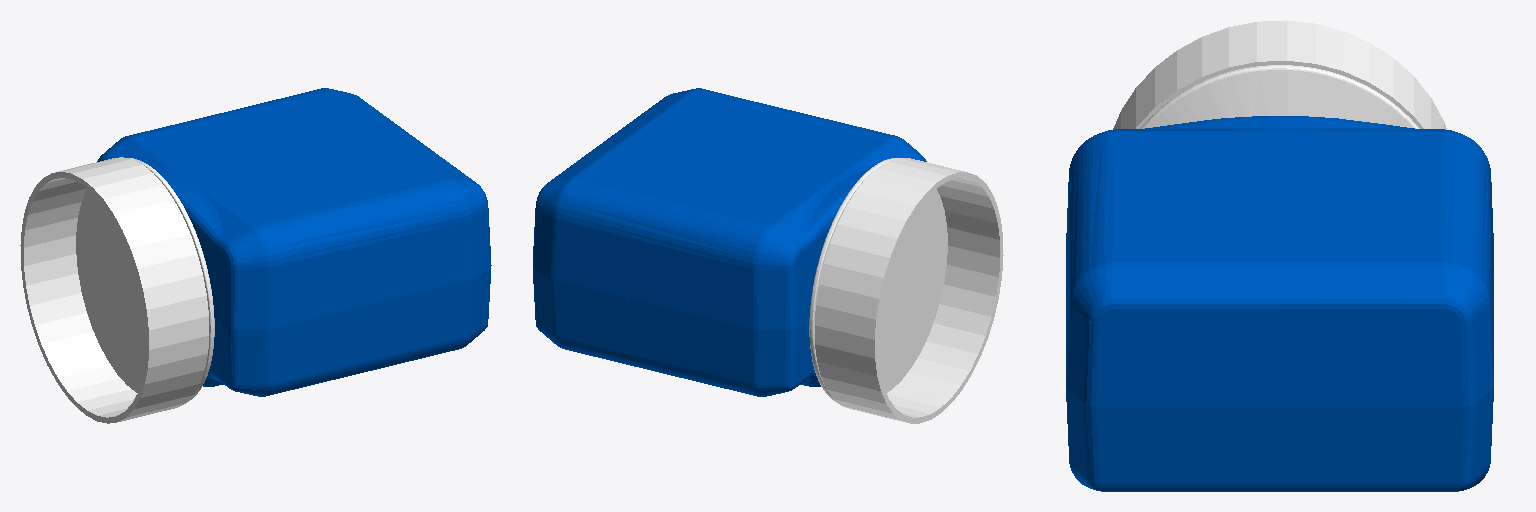
The robot description file, URDF, robot "fetch_gripper":
<robot name="fetch_gripper">
  <link name="wrist_roll_link">
    <inertial>
      <origin rpy="0 0 0" xyz="0.0095 0.0004 -0.0002" />
      <mass value="0.1354" />
      <inertia ixx="0.0001" ixy="0.0" ixz="0.0" iyy="0.0001" iyz="0.0" izz="0.0001" />
    </inertial>
    <visual>
      <origin rpy="0 0 0" xyz="0 0 0" />
      <geometry>
        <mesh filename="meshes/wrist_roll_link.obj" />
      </geometry>
      <material name="">
        <color rgba="1 1 1 1" />
      </material>
    </visual>
    <collision>
      <origin rpy="0 0 0" xyz="0 0 0" />
      <geometry>
        <mesh filename="meshes/wrist_roll_link_collision.STL" />
      </geometry>
    </collision>
  </link>
  <link name="gripper_link">
    <inertial>
      <origin rpy="0 0 0" xyz="-0.0900 -0.0001 -0.0017" />
      <mass value="1.5175" />
      <inertia ixx="0.0013" ixy="-0.0" ixz="0.0" iyy="0.0019" iyz="-0.0" izz="0.0024" />
    </inertial>
    <visual>
      <origin rpy="0 0 0" xyz="0 0 0" />
      <geometry>
        <mesh filename="meshes/gripper_link.obj" />
      </geometry>
      <material name="">
        <color rgba="0 0.4 0.8 1" />
      </material>
    </visual>
    <collision>
      <origin rpy="0 0 0" xyz="0 0 0" />
      <geometry>
        <mesh filename="meshes/gripper_link.obj" />
      </geometry>
    </collision>
  </link>
  <joint name="gripper_axis" type="fixed">
    <origin rpy="0 0 0" xyz="0.16645 0 0" />
    <parent link="wrist_roll_link" />
    <child link="gripper_link" />
    <axis xyz="0 1 0" />
  </joint>
  <link name="r_gripper_finger_link">
    <inertial>
      <origin rpy="0 0 0" xyz="-0.01 0 0" />
      <mass value="0.0798" />
      <inertia ixx="0.002" ixy="0" ixz="0" iyy="0" iyz="0" izz="0" />
    </inertial>
    <visual>
      <origin rpy="0 0 0" xyz="0 0.101425 0" />
      <geometry>
        <mesh filename="meshes/r_gripper_finger_link.obj" />
      </geometry>
      <material name="">
        <color rgba="0.356 0.361 0.376 1" />
      </material>
    </visual>
    <collision>
      <origin rpy="0 0 0" xyz="0 0.101425 0" />
      <geometry>
        <mesh filename="meshes/r_gripper_finger_link.obj" />
      </geometry>
    </collision>
  </link>
  <joint name="r_gripper_finger_joint" type="prismatic">
    <origin rpy="0 0 0" xyz="0 0.015425 0" />
    <parent link="gripper_link" />
    <child link="r_gripper_finger_link" />
    <axis xyz="0 1 0" />
  <limit effort="60" lower="0.0" upper="0.05" velocity="0.05" /><dynamics damping="100.0" /></joint>
  <link name="l_gripper_finger_link">
    <inertial>
      <origin rpy="0 0 0" xyz="-0.01 0 0" />
      <mass value="0.0798" />
      <inertia ixx="0.002" ixy="0" ixz="0" iyy="0" iyz="0" izz="0" />
    </inertial>
    <visual>
      <origin rpy="0 0 0" xyz="0 -0.101425 0" />
      <geometry>
        <mesh filename="meshes/l_gripper_finger_link.obj" />
      </geometry>
      <material name="">
        <color rgba="0.356 0.361 0.376 1" />
      </material>
    </visual>
    <collision>
      <origin rpy="0 0 0" xyz="0 -0.101425 0" />
      <geometry>
        <mesh filename="meshes/l_gripper_finger_link.obj" />
      </geometry>
    </collision>
  </link>
  <joint name="l_gripper_finger_joint" type="prismatic">
    <origin rpy="0 0 0" xyz="0 -0.015425 0" />
    <parent link="gripper_link" />
    <child link="l_gripper_finger_link" />
    <axis xyz="0 -1 0" />
  <limit effort="60" lower="0.0" upper="0.05" velocity="0.05" /><dynamics damping="100.0" /></joint>
</robot>

--- Facts derived from the render (not from the file) ---
3 views of the same robot in one strip: view 1: azimuth 30°, elevation 25°; view 2: azimuth 150°, elevation 25°; view 3: azimuth 270°, elevation 25° (orthographic).
Robot: fetch_gripper — 4 links, 3 joints (2 prismatic, 1 fixed); root link wrist_roll_link; default pose: all joints at 0.
Visible links, largest first — view 1: gripper_link, wrist_roll_link; view 2: gripper_link, wrist_roll_link; view 3: gripper_link, wrist_roll_link.
Boxes of the visible links, box(x1,y1,x2,y2) form: gripper_link: box(97, 88, 491, 396); wrist_roll_link: box(20, 157, 214, 423); gripper_link: box(533, 88, 926, 396); wrist_roll_link: box(809, 158, 1003, 423); gripper_link: box(1066, 116, 1493, 491); wrist_roll_link: box(1113, 20, 1446, 129).
Size in the robot's own frame: 0.1575 by 0.1261 by 0.1039 metres.
Meshes: 4 distinct files referenced, 2 mesh visuals loaded (2 OBJ); not drawn: 2 (reference not matched to a file when rendering).